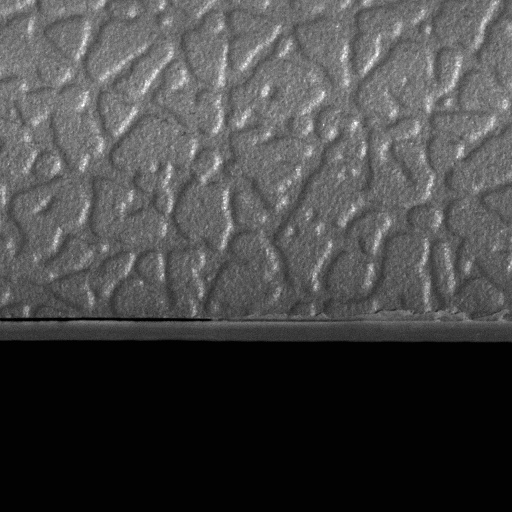jiaofeng: (0, 312, 218, 326)
